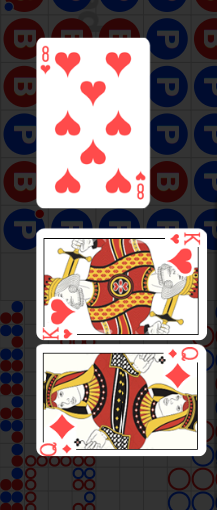8H: (40, 45, 53, 76)
QD: (36, 400, 83, 444), (157, 333, 203, 377)
